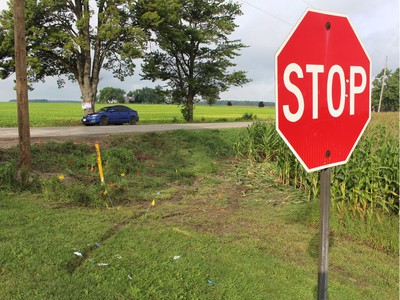stop: (281, 22, 370, 157)
